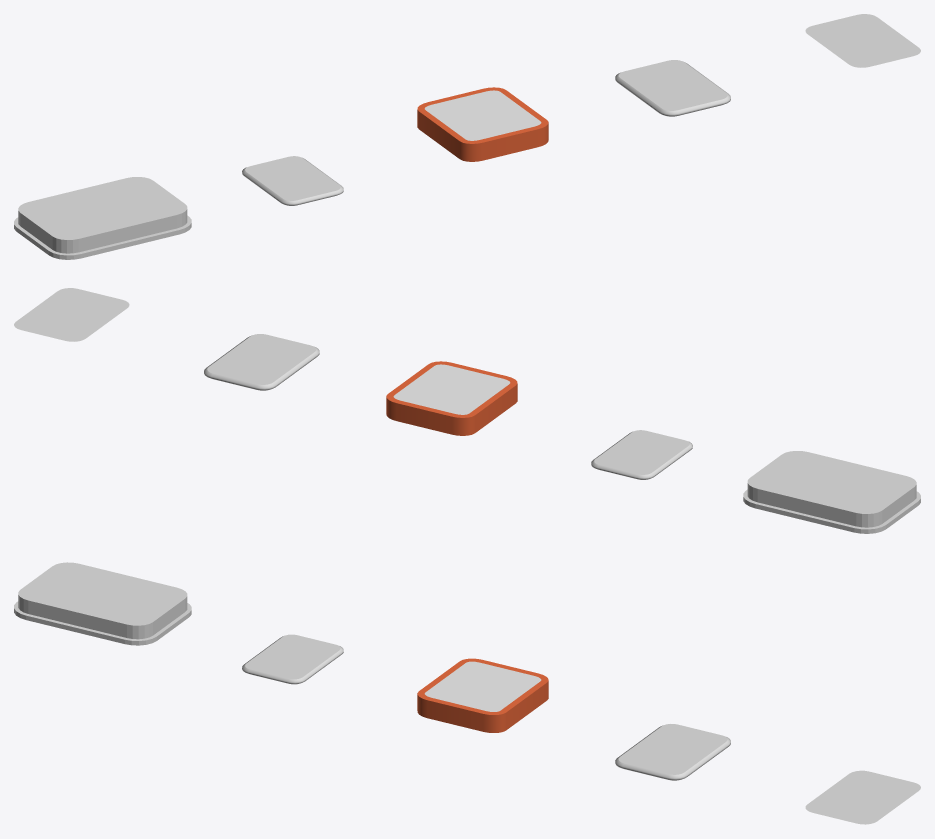
The model's file is cardshufflesort.fbx.
The picture shows the model from 3 angles, top to bottom: view 1: azimuth 30°, elevation 25°; view 2: azimuth 150°, elevation 25°; view 3: azimuth 330°, elevation 25°; orthographic projection.
Parts seen in each view (by area): view 1: DealButton, DealTable, LockedSlot, Slot, Card, ButtonFrame; view 2: DealButton, DealTable, LockedSlot, Slot, Card, ButtonFrame; view 3: DealButton, DealTable, LockedSlot, Slot, Card, ButtonFrame.
Boxes of the visible parts, <box> form: DealButton: <box>18,177,187,253</box>; DealTable: <box>417,87,548,161</box>; LockedSlot: <box>615,60,730,116</box>; Slot: <box>805,14,920,67</box>; Card: <box>242,156,343,205</box>; ButtonFrame: <box>14,215,191,259</box>; DealButton: <box>747,451,916,527</box>; DealTable: <box>386,361,517,435</box>; LockedSlot: <box>204,334,319,390</box>; Slot: <box>14,288,129,341</box>; Card: <box>591,430,692,479</box>; ButtonFrame: <box>743,489,920,533</box>; DealButton: <box>18,562,187,639</box>; DealTable: <box>417,658,548,732</box>; LockedSlot: <box>615,724,730,780</box>; Slot: <box>805,770,920,824</box>; Card: <box>242,634,343,684</box>; ButtonFrame: <box>14,601,191,645</box>.
Bounding box in the file's own units: 455 × 11 × 51.54.
